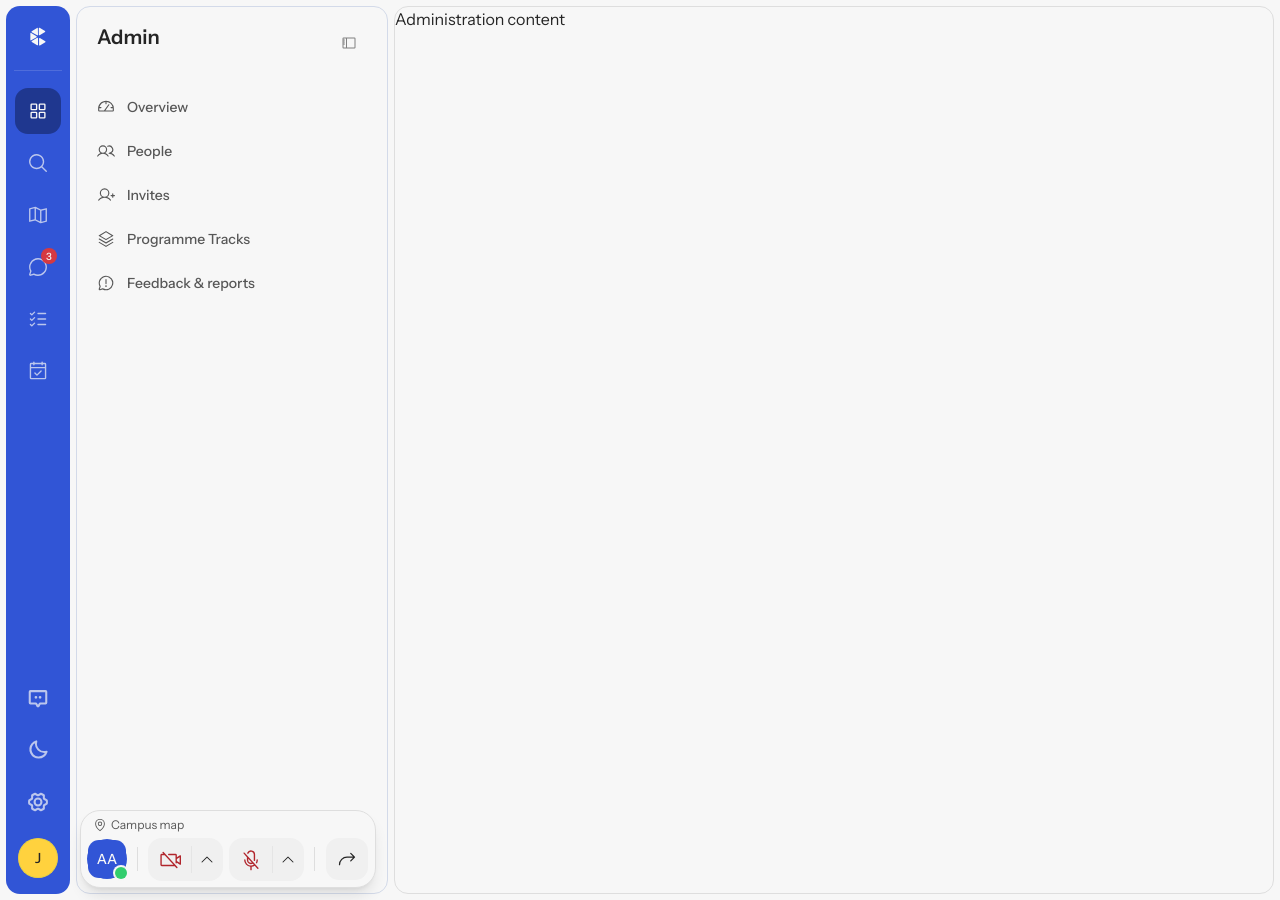
Scenario: administration Campus layout › Search restores Campus sidebar mode
This screenshot has width=1280, height=900.
Click the button named "Search": (38, 163) [14,139,62,187]
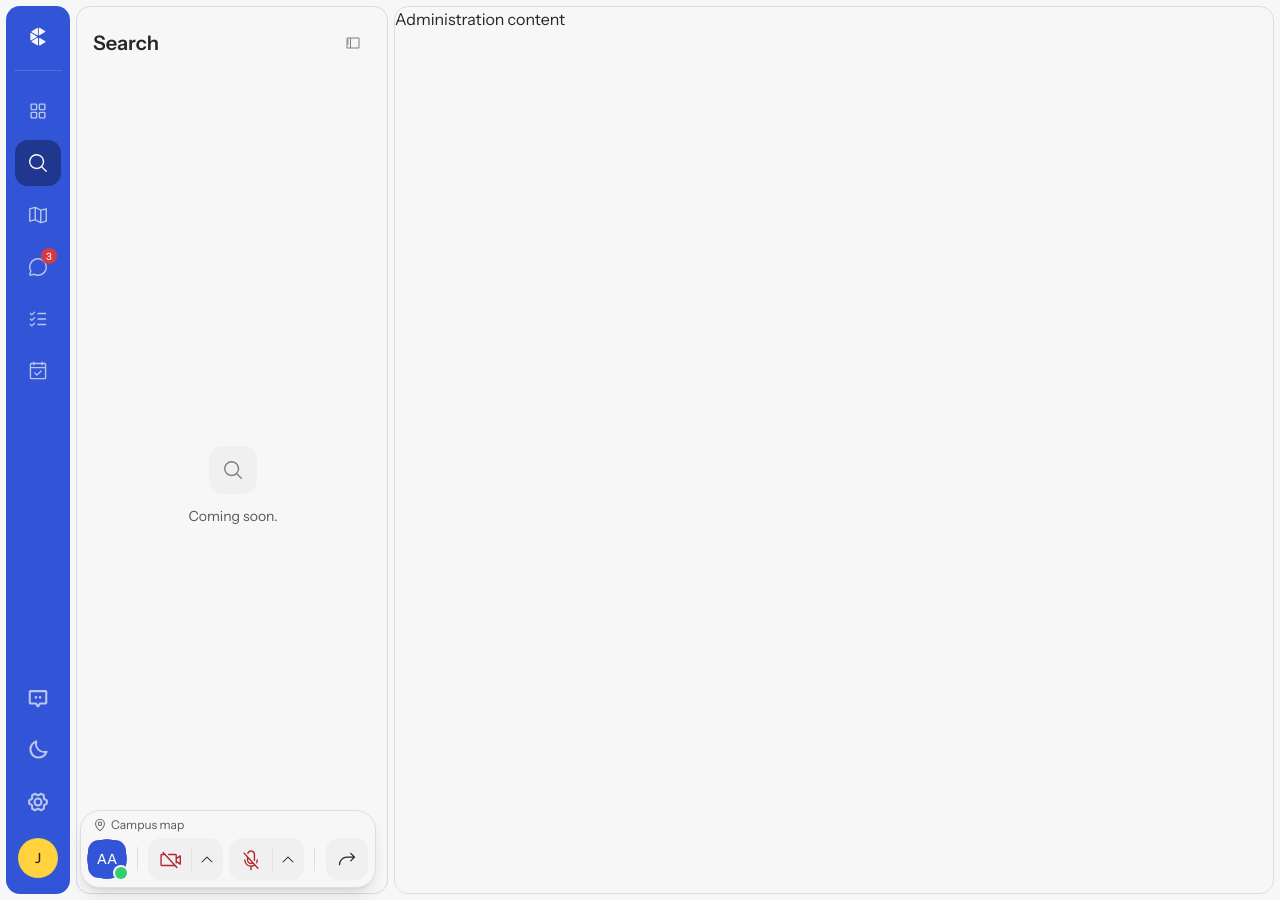
expect the heading "Search" is shown: met, box [93,29,159,57]
